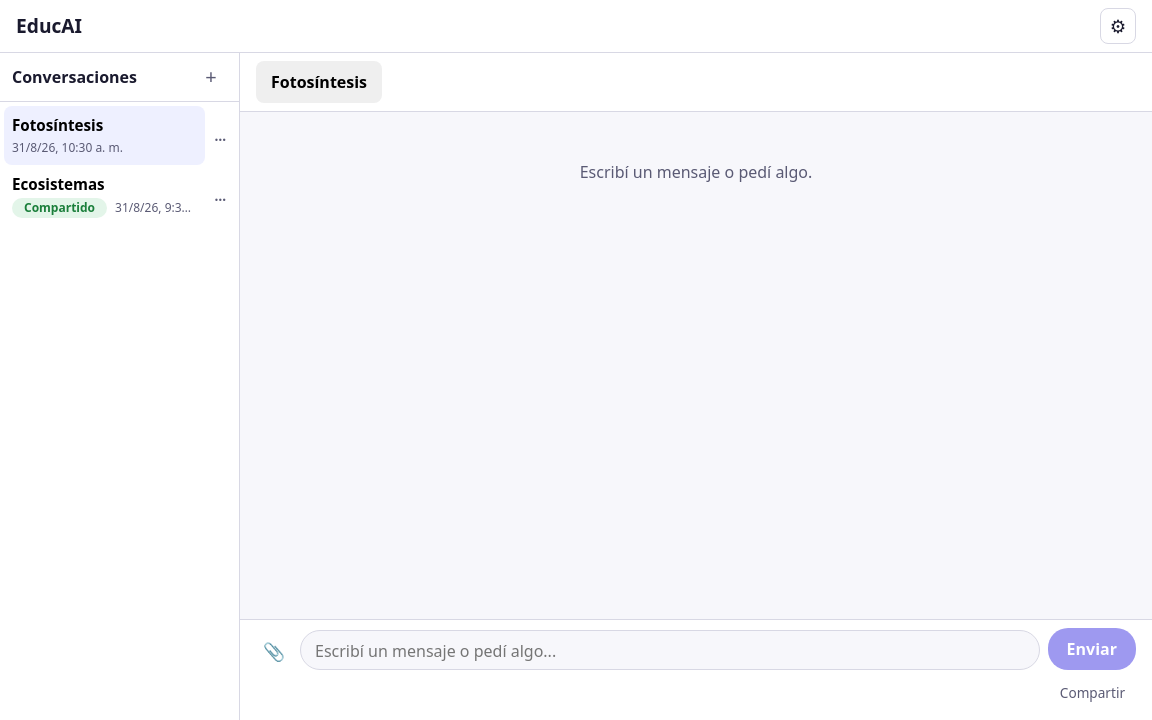
Scenario: App › cancels deleting a conversation from the confirmation dialog
Check: the heading "Fotosíntesis" is shown, box [256,61,382,103]
What coordinates should you click on to do the following:
click the button named "Opciones de conversación"
I would click on:
 (220, 135)
Its box is [205,121,235,149].
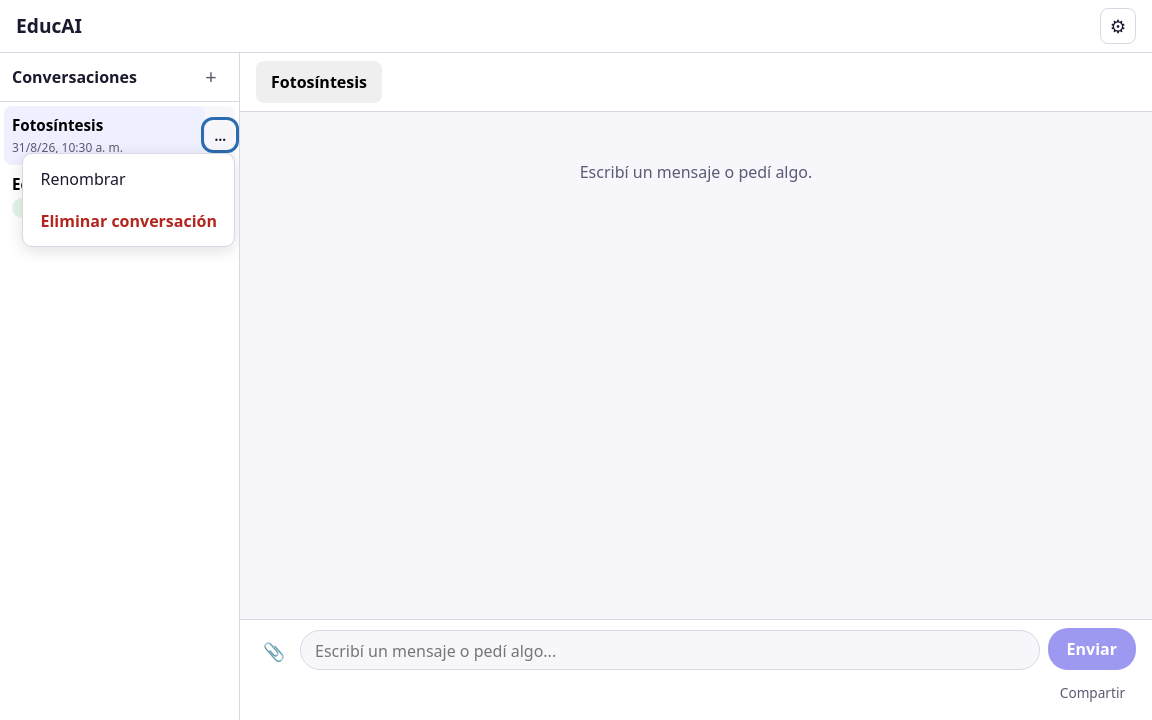
What coordinates should you click on to do the following:
click the menu item "Eliminar conversación"
I would click on:
 (129, 221)
Its box is [28,200,230,242].
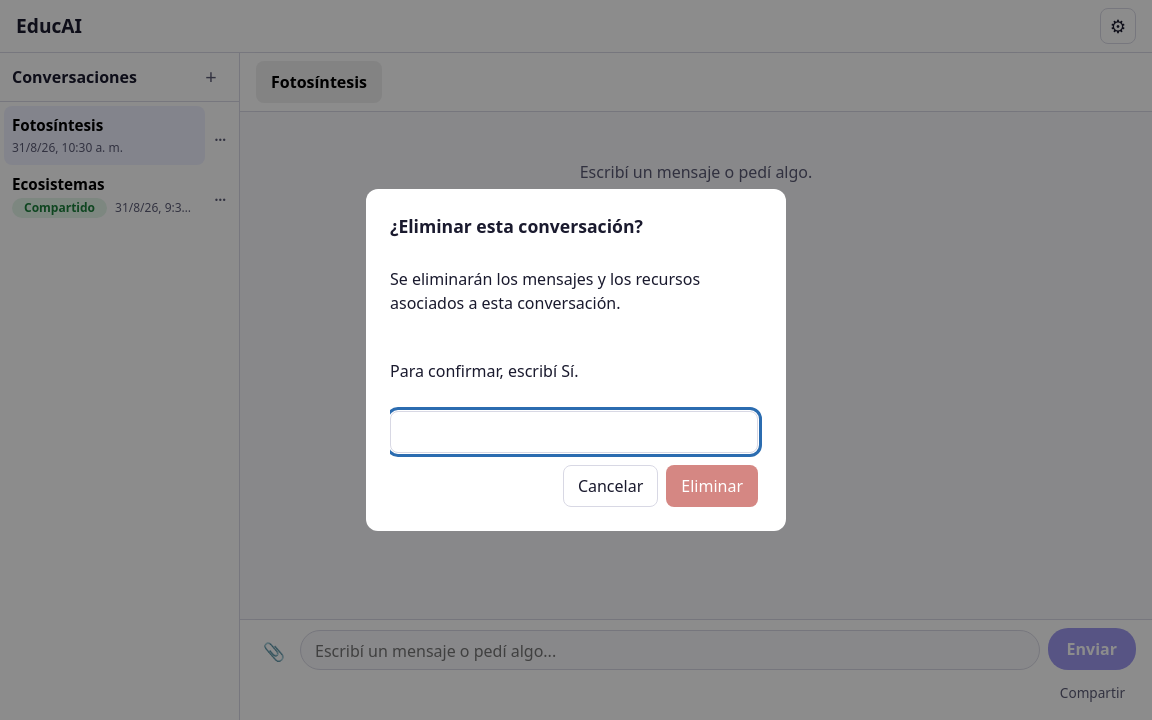
Check: the dialog "¿Eliminar esta conversación?" is shown, box [366,189,786,531]
What coordinates should you click on to do the following:
click the button "Cancelar"
I would click on:
 (611, 486)
Its box is [563,465,658,507].
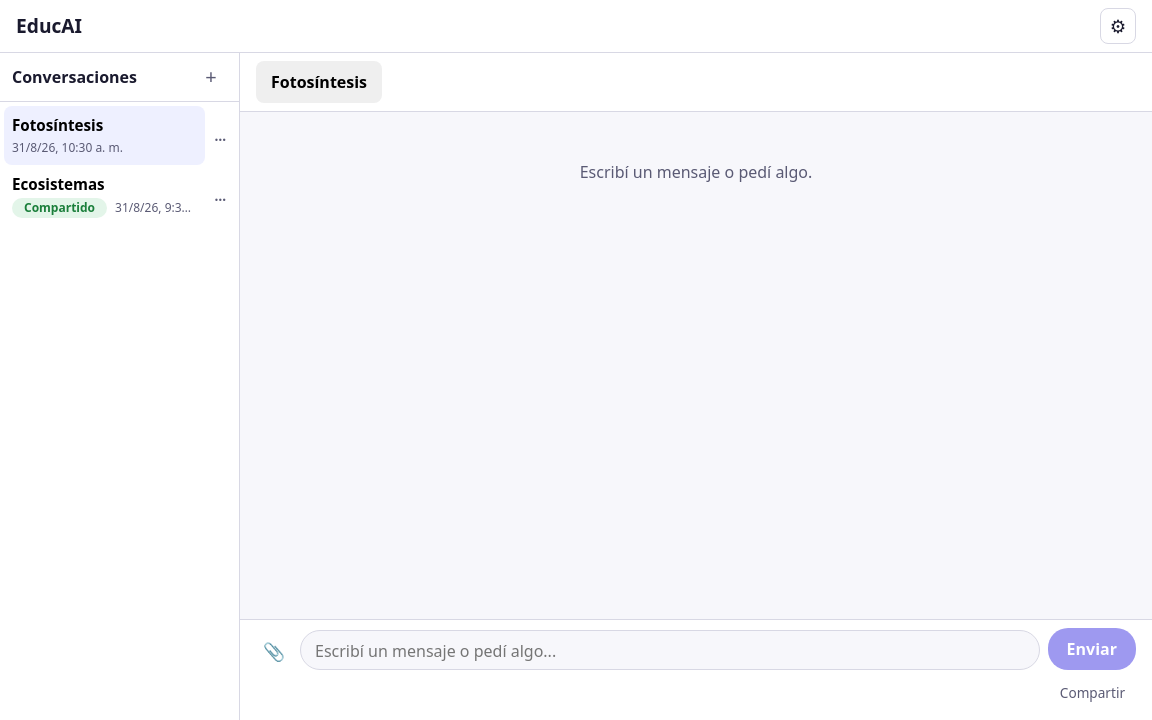
Check: the heading "Fotosíntesis" is shown, box [256,61,382,103]
Check: the dialog is gone
